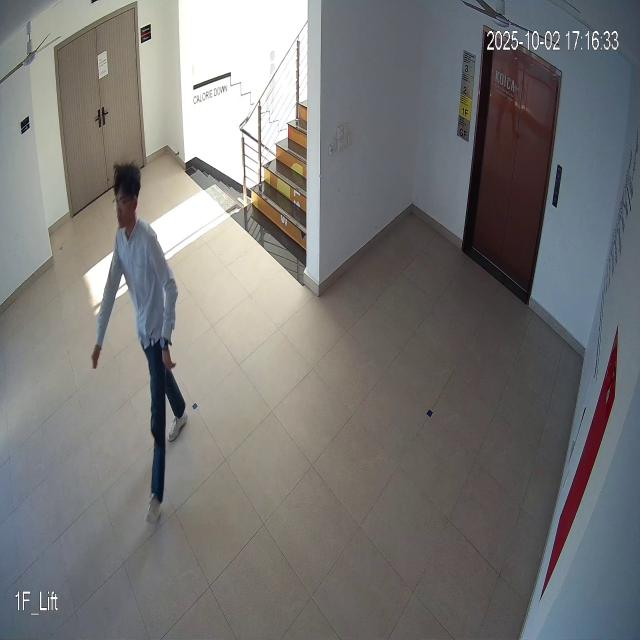face: (112, 155, 143, 234)
